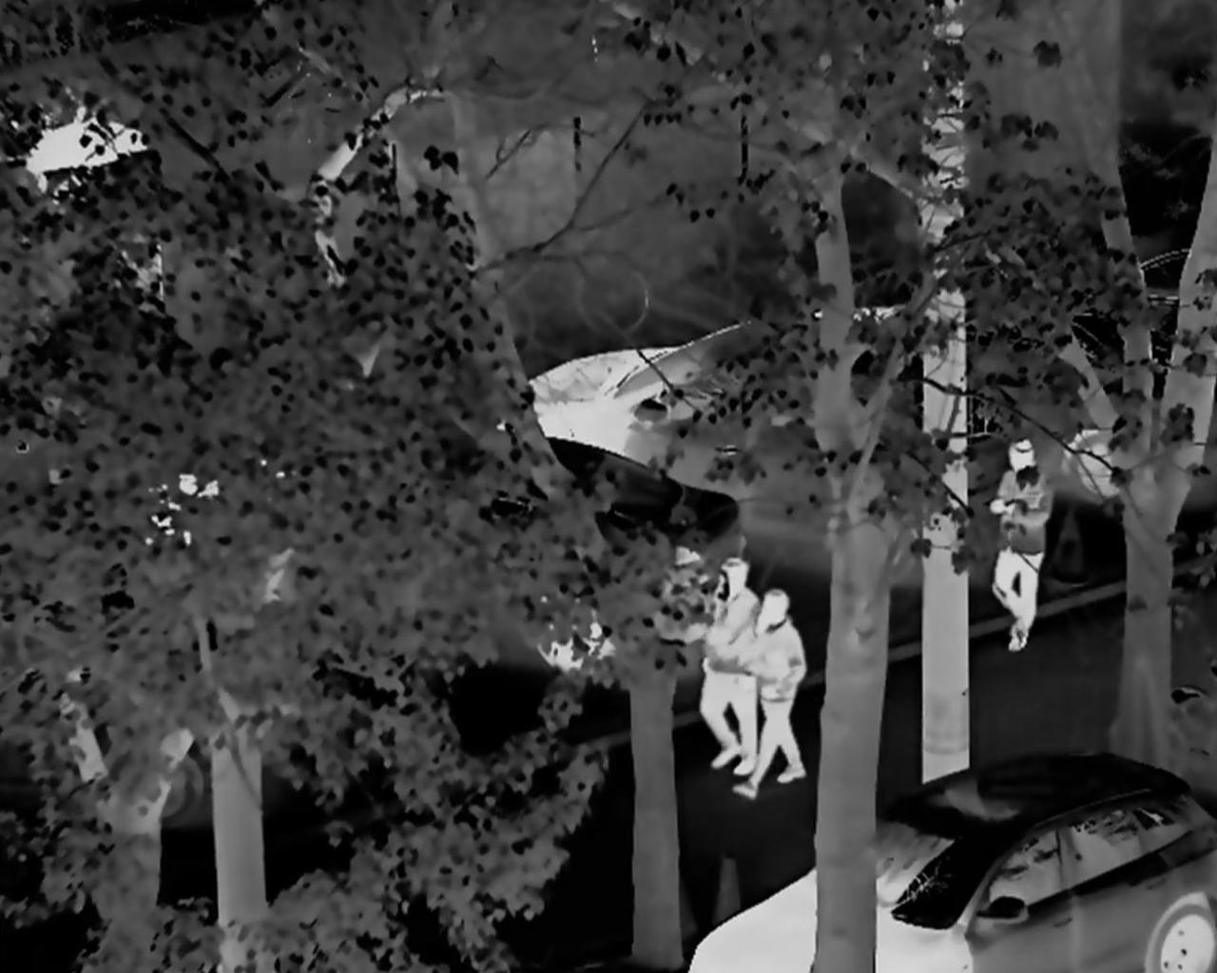person: (686, 549, 758, 783), (737, 591, 815, 799), (989, 438, 1050, 653)
